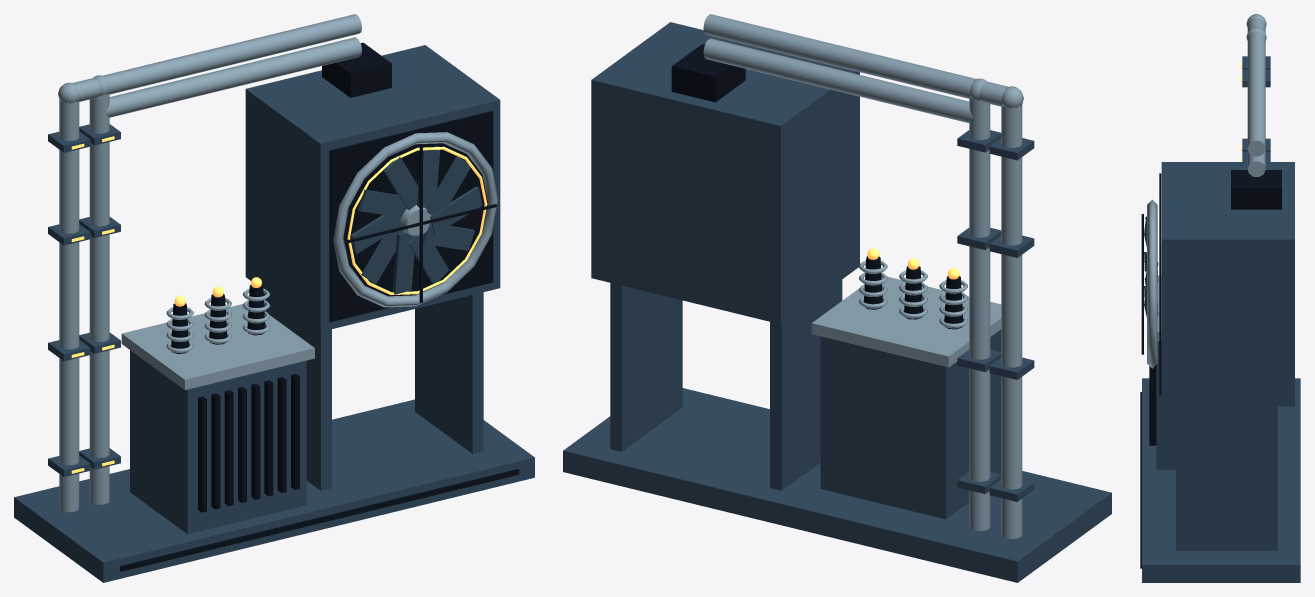
File: city.glb
3 renders of one model, left to right at view 1: azimuth 30°, elevation 25°; view 2: azimuth 150°, elevation 25°; view 3: azimuth 270°, elevation 25°, orthographic. The views are drawn at different scales.
Visible parts, largest first — view 1: setpiece-city-sz-armor, setpiece-city-sz-edge, setpiece-city-sz-rubber, setpiece-city-sz-amber; view 2: setpiece-city-sz-armor, setpiece-city-sz-edge, setpiece-city-sz-rubber; view 3: setpiece-city-sz-armor, setpiece-city-sz-edge, setpiece-city-sz-rubber.
Part boxes in pixels (x1,y1,x2,y2): setpiece-city-sz-armor: (14, 45, 534, 582); setpiece-city-sz-edge: (58, 14, 498, 512); setpiece-city-sz-rubber: (120, 42, 519, 571); setpiece-city-sz-amber: (71, 136, 487, 473); setpiece-city-sz-armor: (563, 22, 1111, 582); setpiece-city-sz-edge: (703, 14, 1023, 538); setpiece-city-sz-rubber: (671, 44, 963, 329); setpiece-city-sz-armor: (1142, 56, 1300, 582); setpiece-city-sz-edge: (1145, 14, 1266, 368); setpiece-city-sz-rubber: (1140, 170, 1281, 568).
Size of the model in its own units: 7.8 by 7.68 by 2.83.
